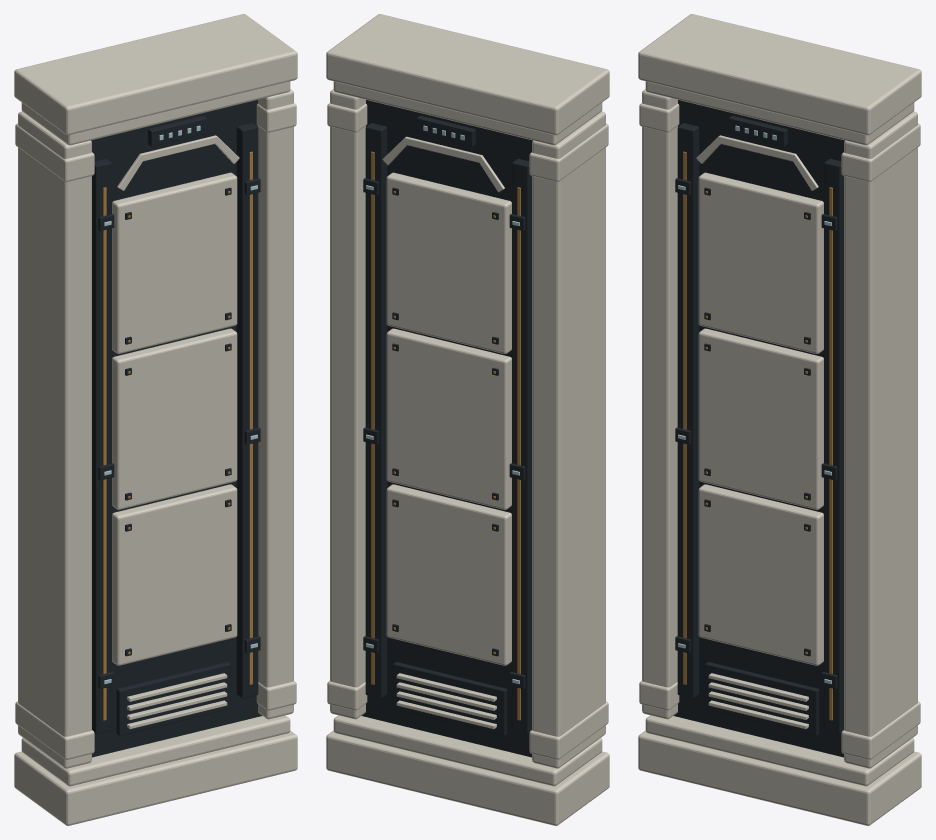
The model's file is SM_Aurelion_KIT_RefugeShell_1m.fbx.
3 renders of one model, left to right at view 1: azimuth 30°, elevation 25°; view 2: azimuth 150°, elevation 25°; view 3: azimuth 330°, elevation 25°, orthographic.
Visible parts, largest first — view 1: SM_Aurelion_KIT_RefugeShell_1m; view 2: SM_Aurelion_KIT_RefugeShell_1m; view 3: SM_Aurelion_KIT_RefugeShell_1m.
Boxes of the visible parts, <box> form: SM_Aurelion_KIT_RefugeShell_1m: <box>14,14,297,825</box>; SM_Aurelion_KIT_RefugeShell_1m: <box>326,14,609,825</box>; SM_Aurelion_KIT_RefugeShell_1m: <box>638,14,921,825</box>.
Size of what is drawn, in the model's own units: 100 by 40 by 296.
